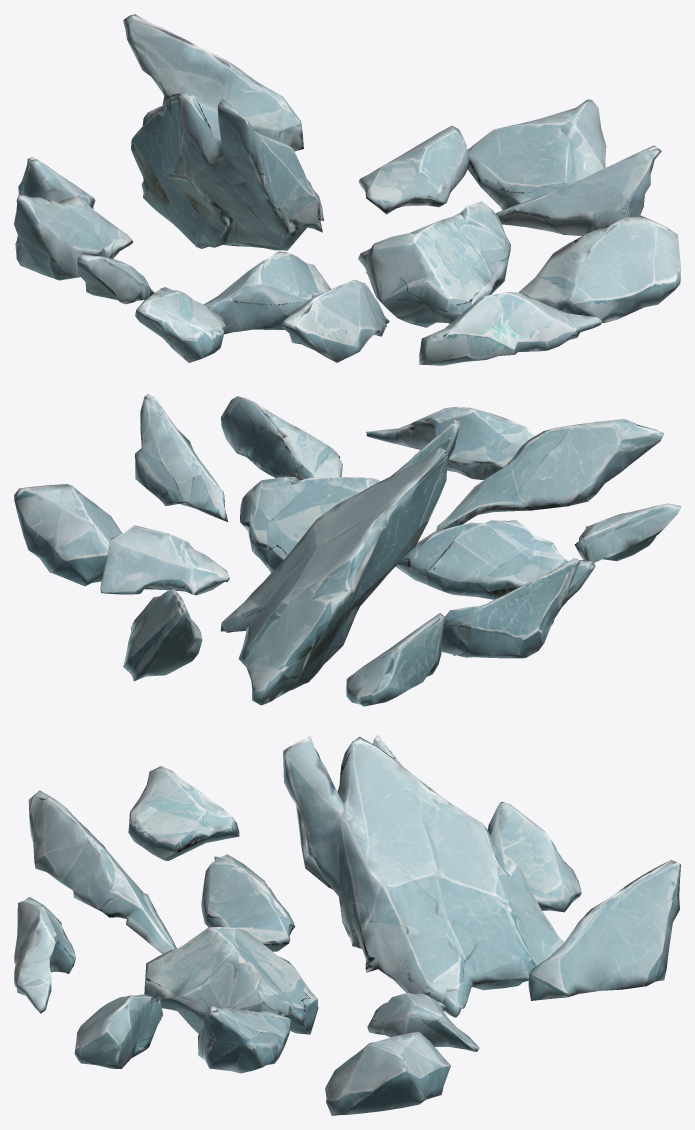
File: PR_IceShards_Scattered.fbx
The picture shows the model from 3 angles, top to bottom: view 1: azimuth 30°, elevation 25°; view 2: azimuth 150°, elevation 25°; view 3: azimuth 270°, elevation 25°; orthographic projection. The views are drawn at different scales.
Visible parts, largest first — view 1: texture_mapping; view 2: texture_mapping; view 3: texture_mapping.
Part boxes in pixels (x1,y1,x2,y2): texture_mapping: (14, 14, 680, 365); texture_mapping: (14, 394, 680, 706); texture_mapping: (14, 735, 680, 1115).
Bounding box in the file's own units: 0.9701 × 0.9954 × 0.3667.
Materials: 1 (1 with a texture image).
